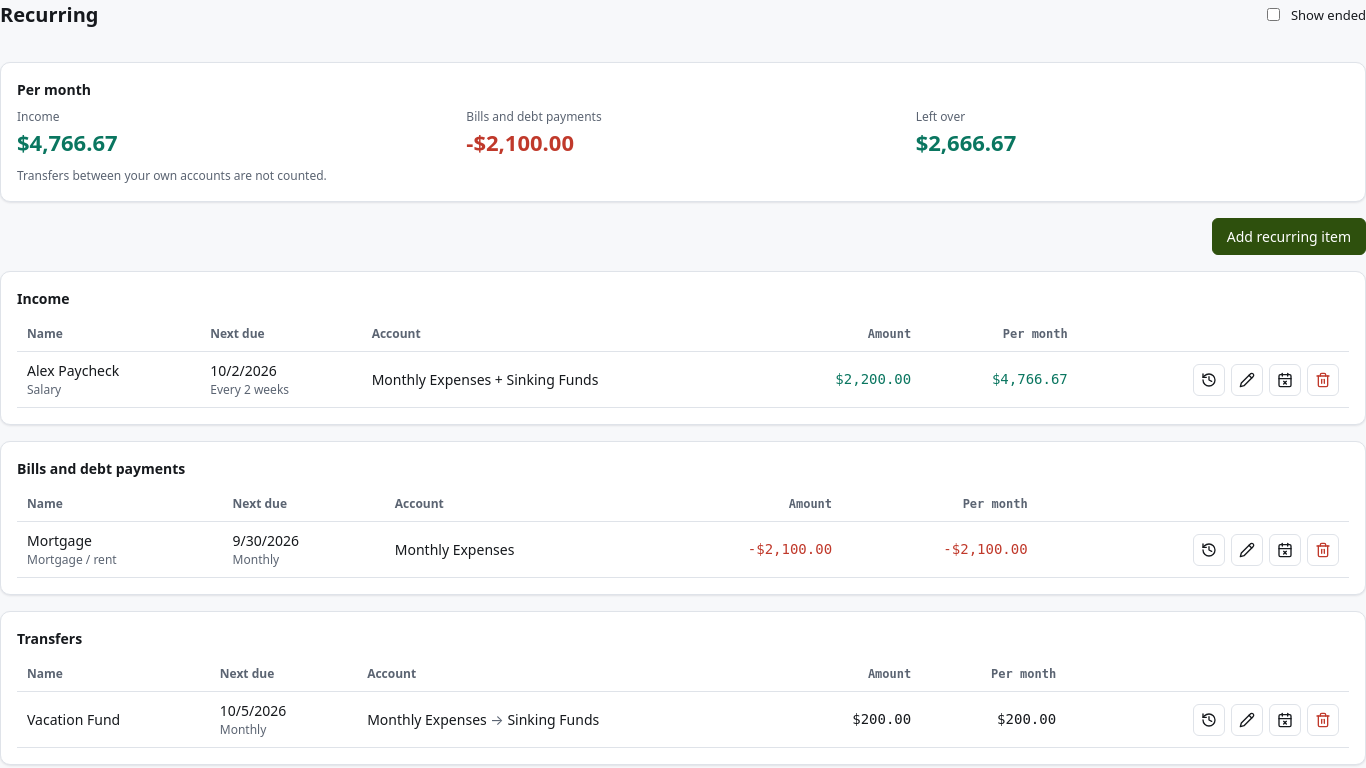
Scenario: the form › edits an existing transfer with PUT and shows the API's message when it refuses
Click the button named "Edit" in the row of "Vacation Fund" at (1247, 720), box top-left (1231, 704), bottom-right (1263, 736)
(page scrolled)
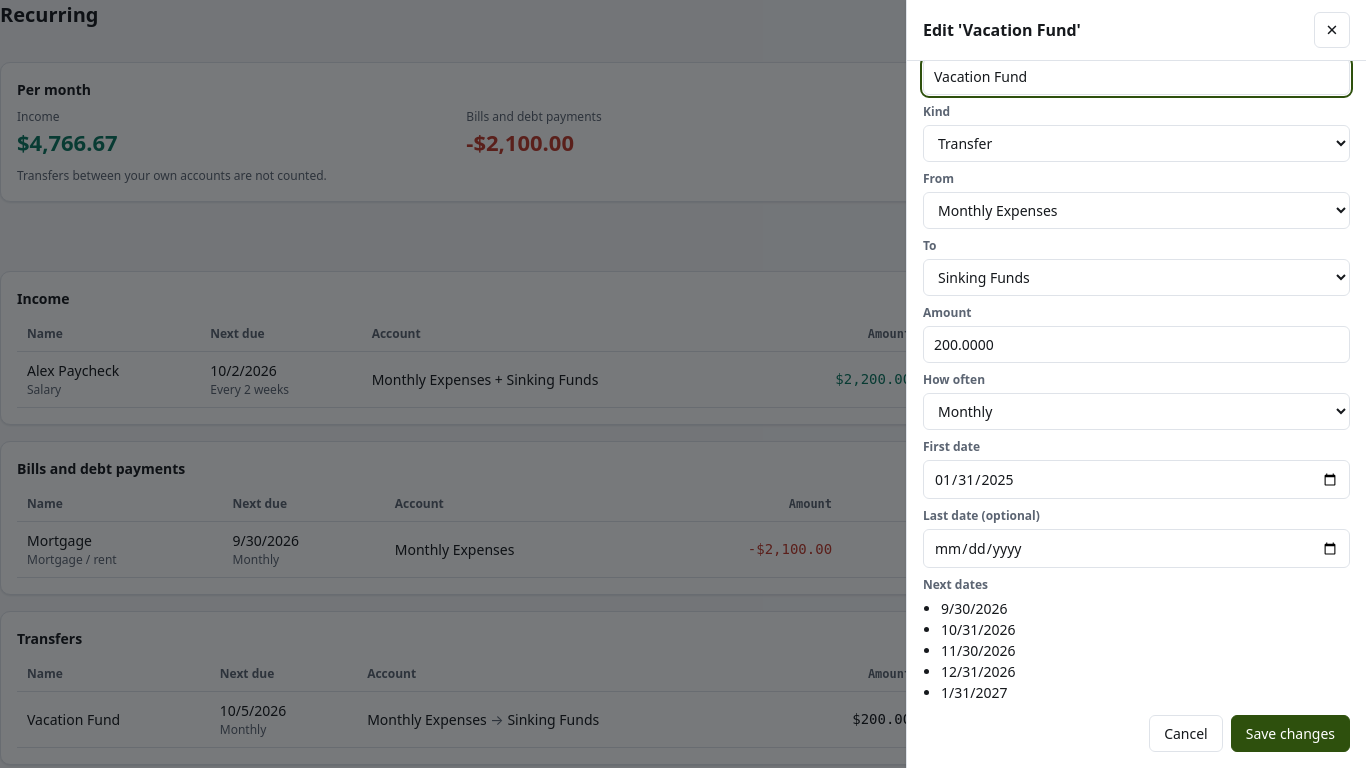
Now the field labelled "Amount" holds "200.0000", box top-left (923, 326), bottom-right (1350, 363)
Click the button "Save changes" at (1290, 734), box top-left (1231, 715), bottom-right (1350, 752)
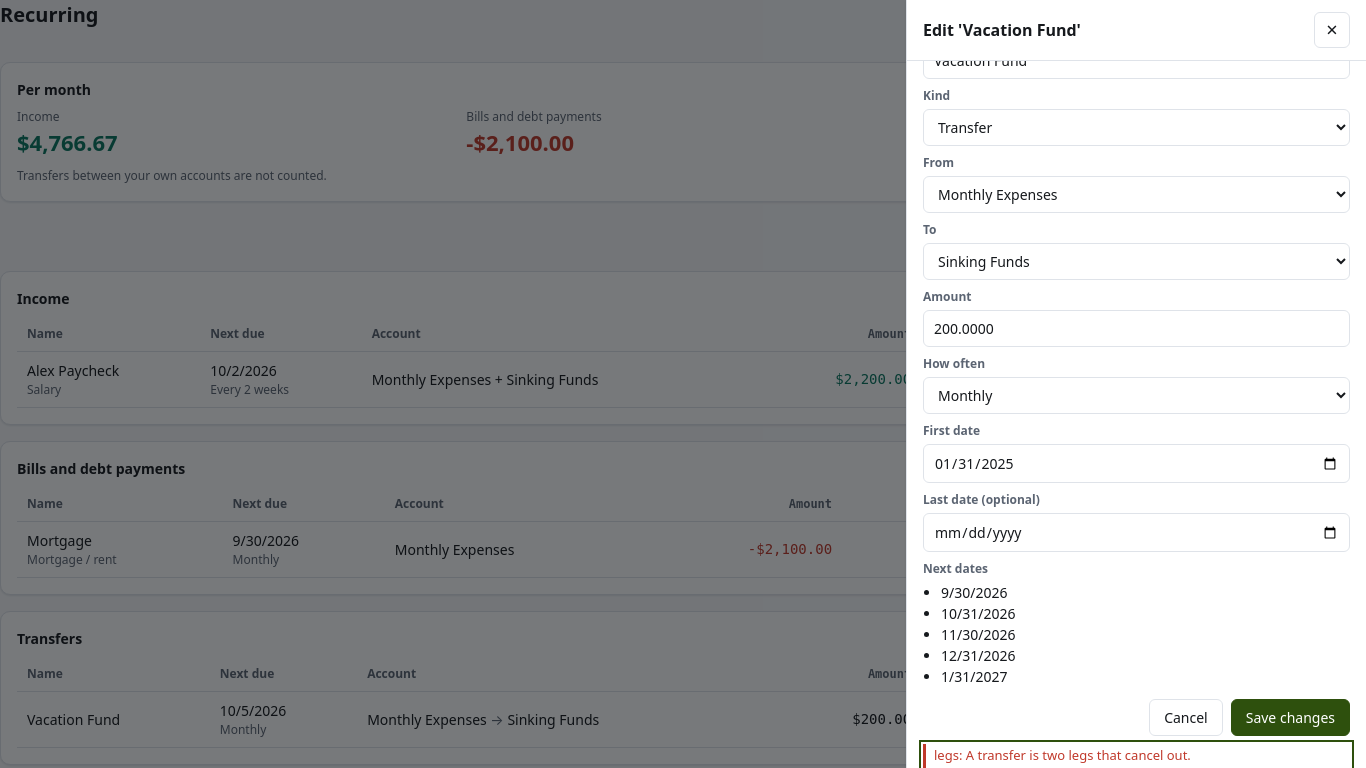
Now the text "legs: A transfer is two legs that cancel out." is shown, box top-left (923, 744), bottom-right (1350, 767)
